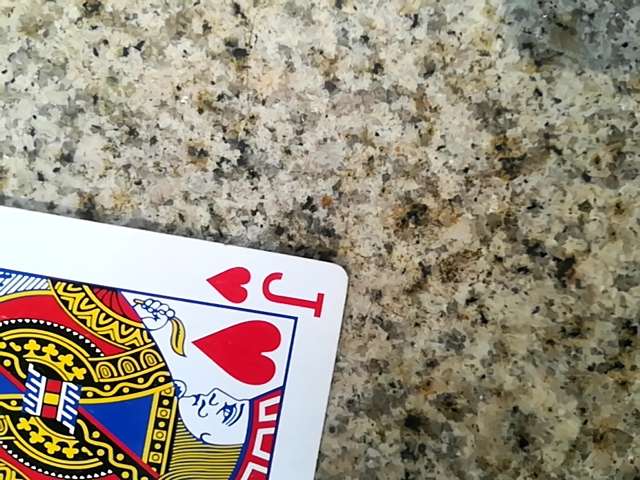hx j: (3, 187, 351, 477)
